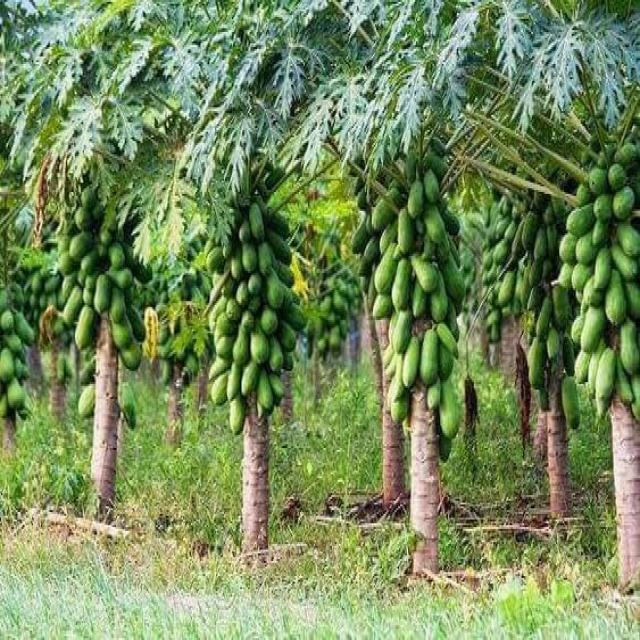Papaya-Tree: (334, 8, 493, 566), (182, 0, 336, 553), (498, 7, 640, 601), (24, 9, 174, 527)
